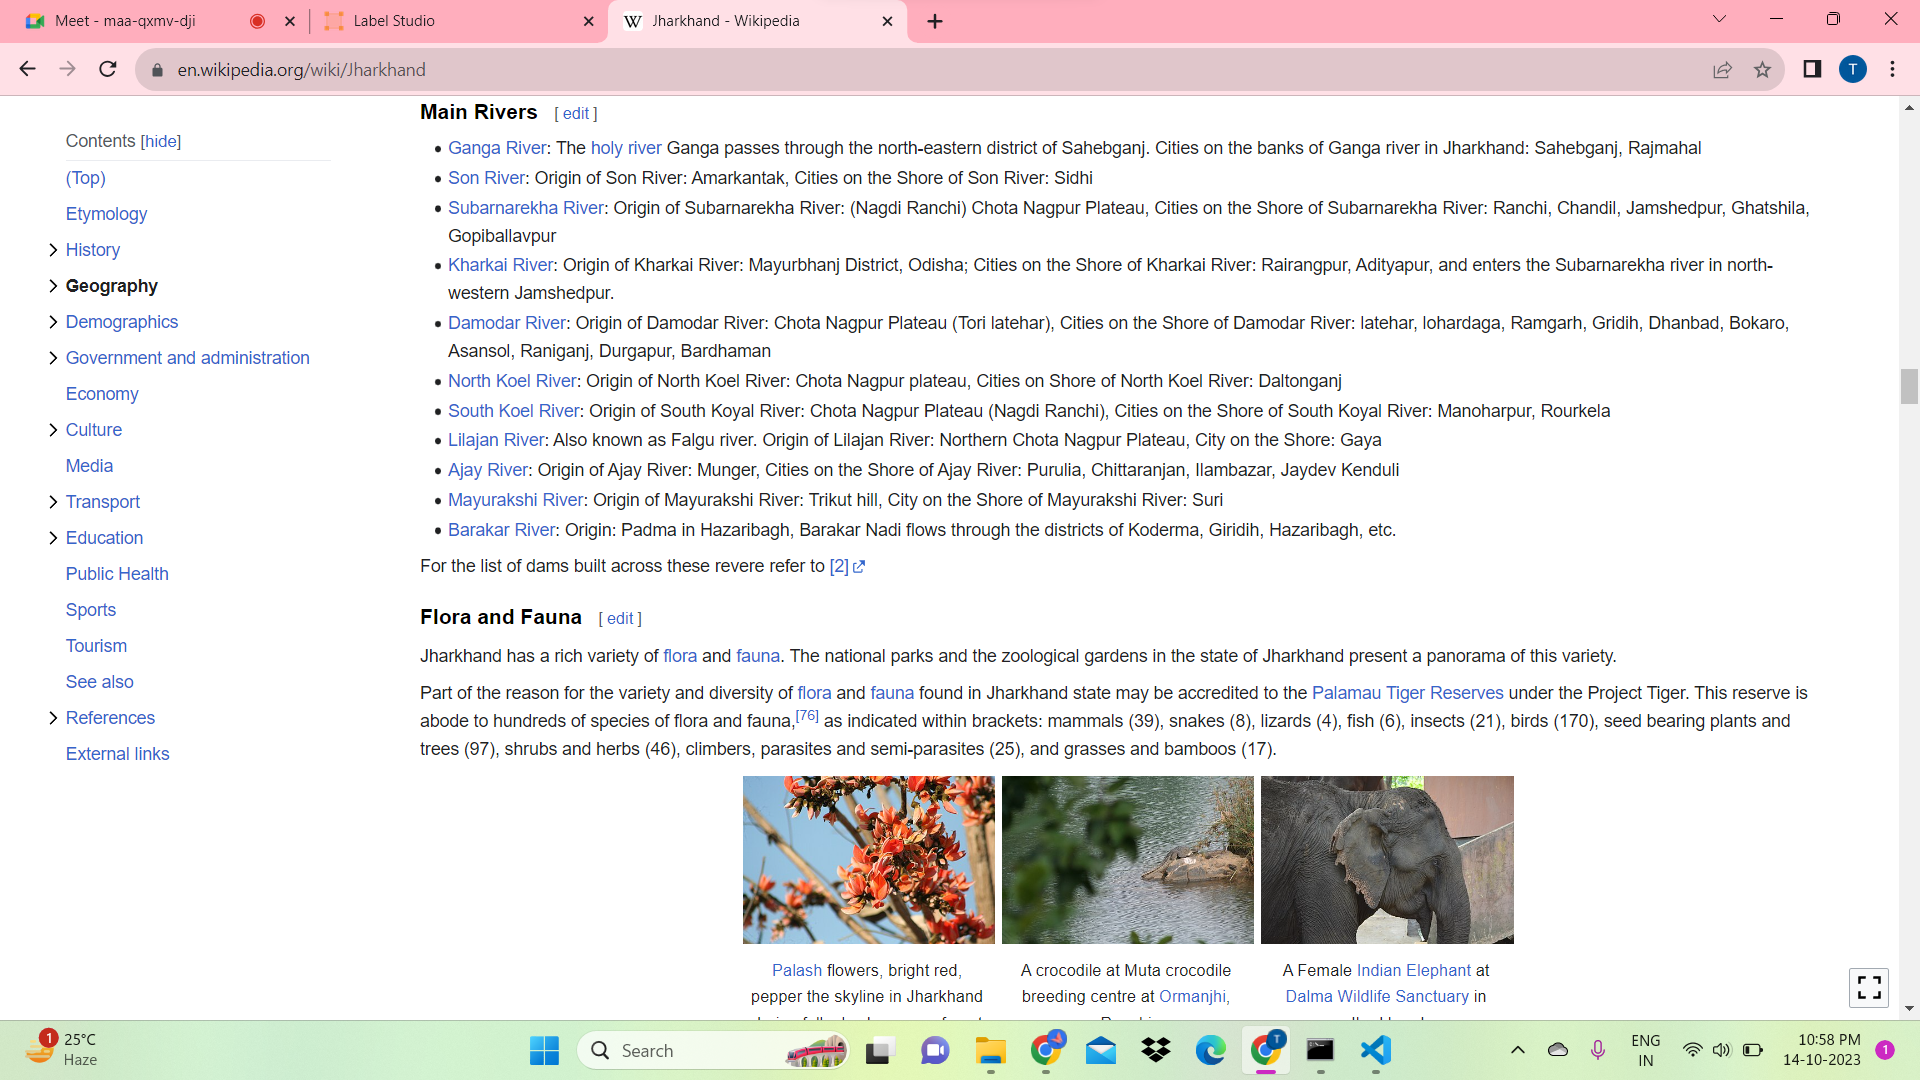Image: (1259, 766, 1527, 953), (732, 764, 1001, 949), (1007, 767, 1258, 945)
Paragraph: (440, 125, 1771, 553), (410, 678, 1811, 756), (58, 454, 311, 766), (58, 272, 326, 438), (414, 645, 1642, 671), (57, 128, 244, 268), (411, 542, 869, 589), (1271, 963, 1510, 1022), (1010, 953, 1241, 1014), (764, 963, 994, 1022), (410, 600, 587, 634), (406, 104, 554, 123)
